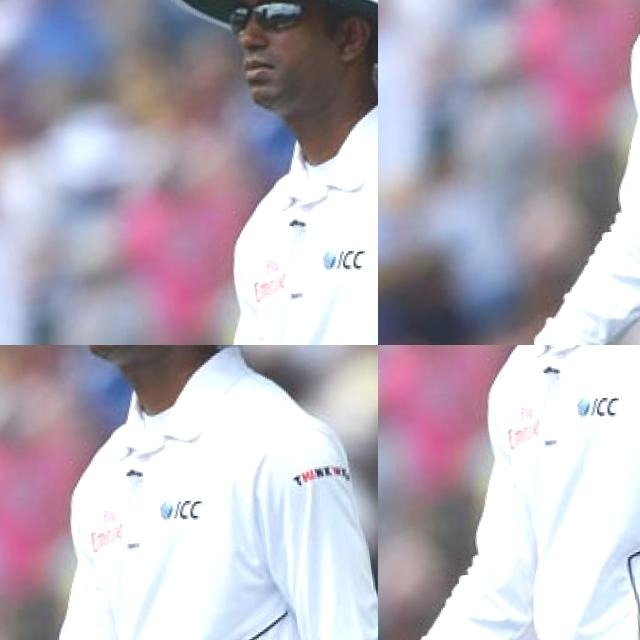No_Action: (0, 345, 378, 640)
No_Ball: (378, 0, 640, 345)
Out: (269, 40, 378, 345)
Six: (458, 345, 640, 640)
